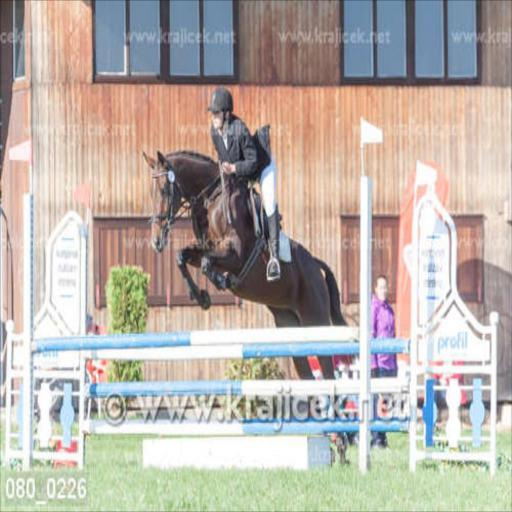Horse: (144, 151, 362, 467)
